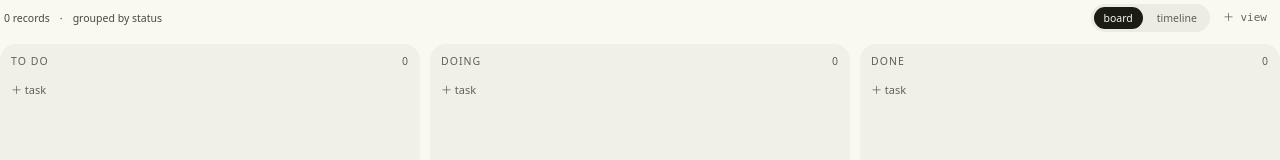
Test: BlockCanvas — switching the bar to timeline moves the frame to timeline’s, not the board’s (KAN-321) › stays bare across every saved view (the card is chosen off the block, not the active view), with the gantt’s own missing-date remedy rendered inline
Expected: the button "add a date field" is not shown
Click the tab "timeline".
click(1177, 18)  # box [1147,7,1207,29]
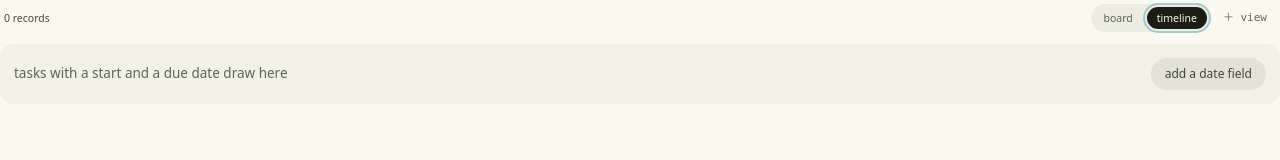
Expected: the button "add a date field" is shown, [1151,58,1266,90]
Click the tab "board".
click(1118, 18)  # box [1094,7,1143,29]
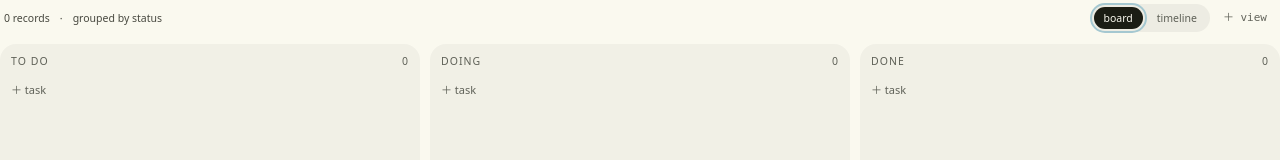
Expected: the button "add a date field" is gone
